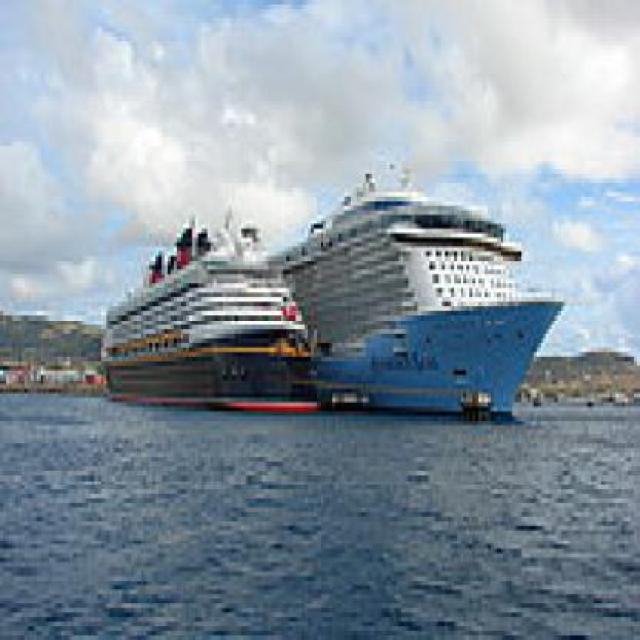cruise: (254, 156, 580, 449), (80, 193, 337, 431)
